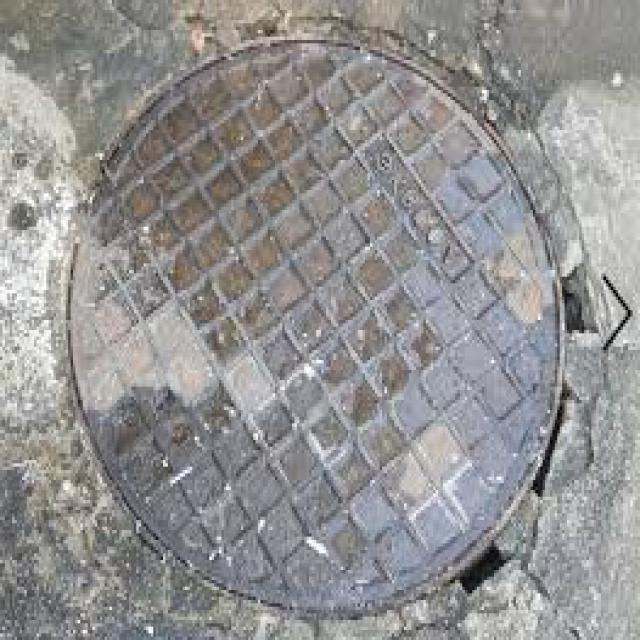Sewer Cover: (28, 17, 579, 628)
